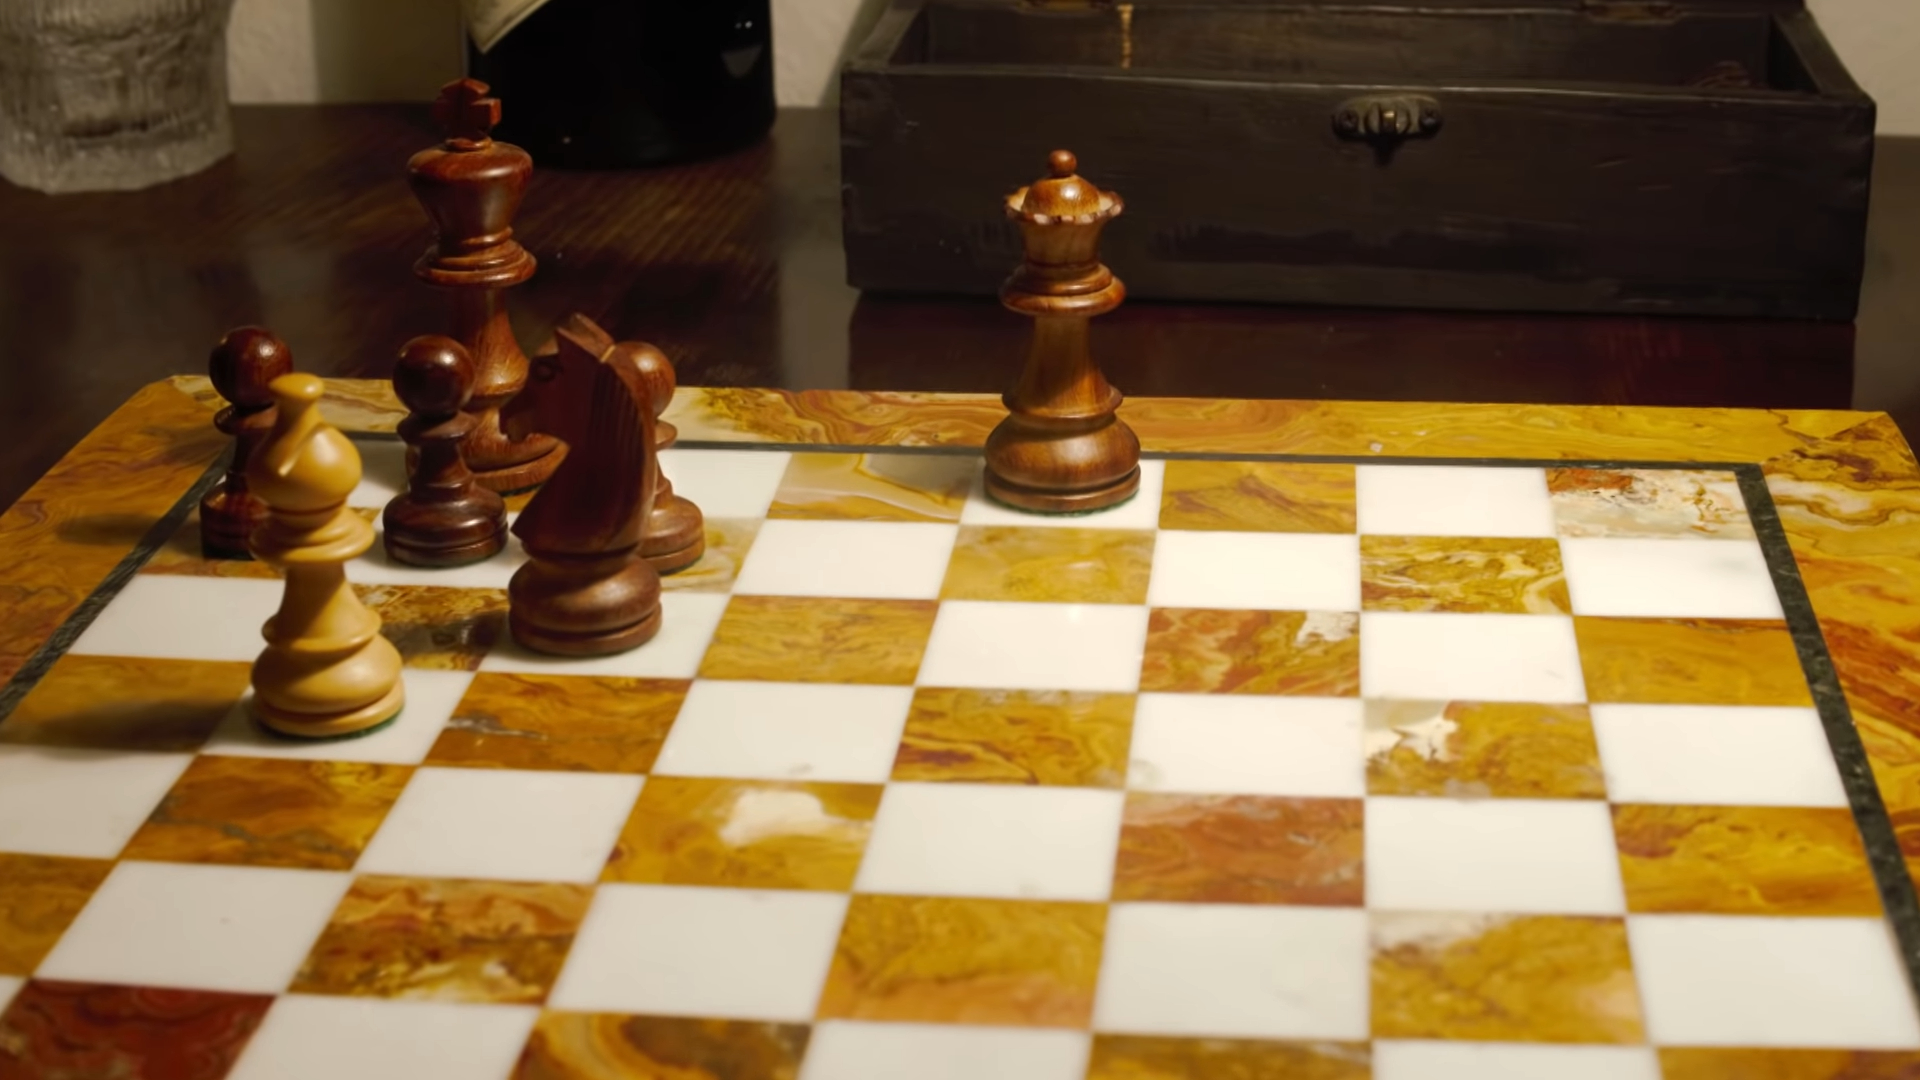BK: (410, 75, 543, 464)
BN: (480, 322, 673, 663)
BP: (612, 328, 703, 584), (390, 344, 498, 556), (191, 342, 286, 531)
BQ: (1000, 138, 1142, 525)
WB: (245, 389, 417, 738)
